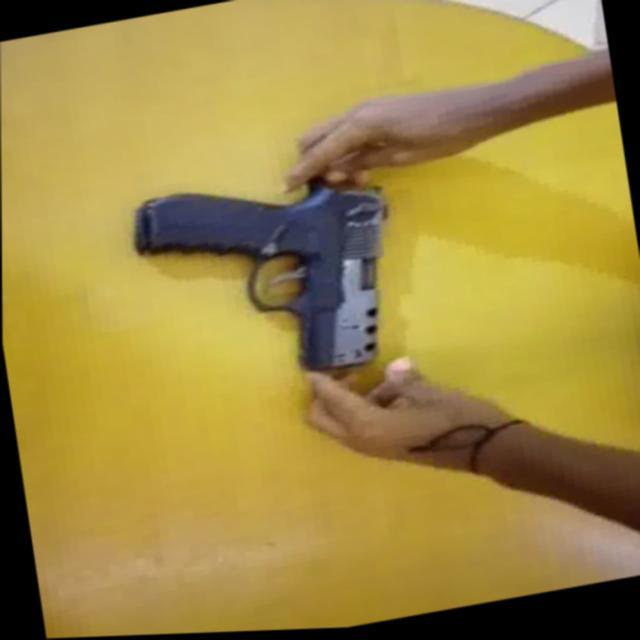weapon: (126, 157, 413, 410)
